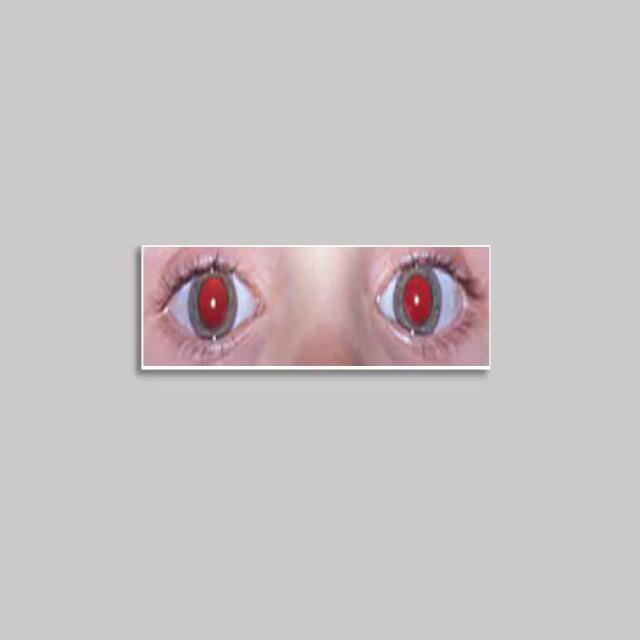reflexo-normal: (169, 251, 251, 341), (379, 269, 468, 341)
